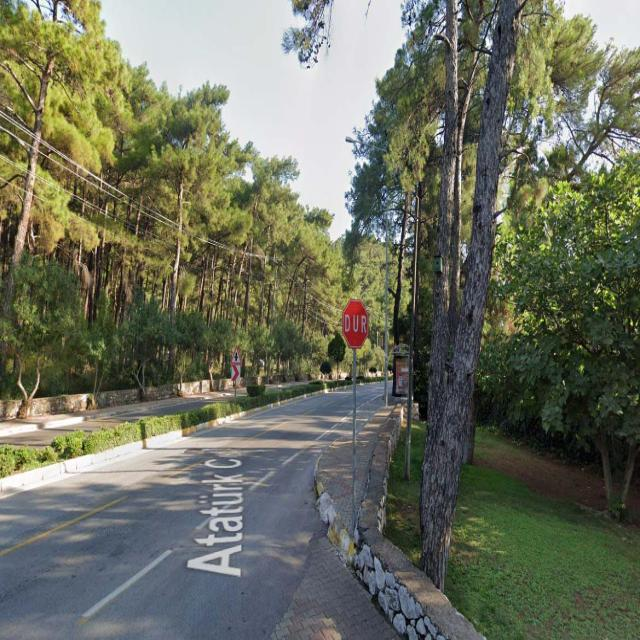dur: (341, 298, 368, 346)
